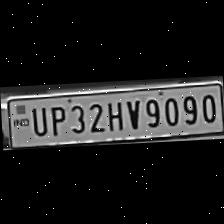0: (196, 89, 218, 123), (160, 92, 180, 126)
2: (84, 97, 104, 132)
3: (65, 99, 85, 134)
9: (140, 94, 160, 128), (178, 91, 198, 125)
H: (104, 97, 124, 131)
P: (43, 101, 65, 135)
U: (26, 102, 46, 136)
V: (122, 94, 140, 130)
